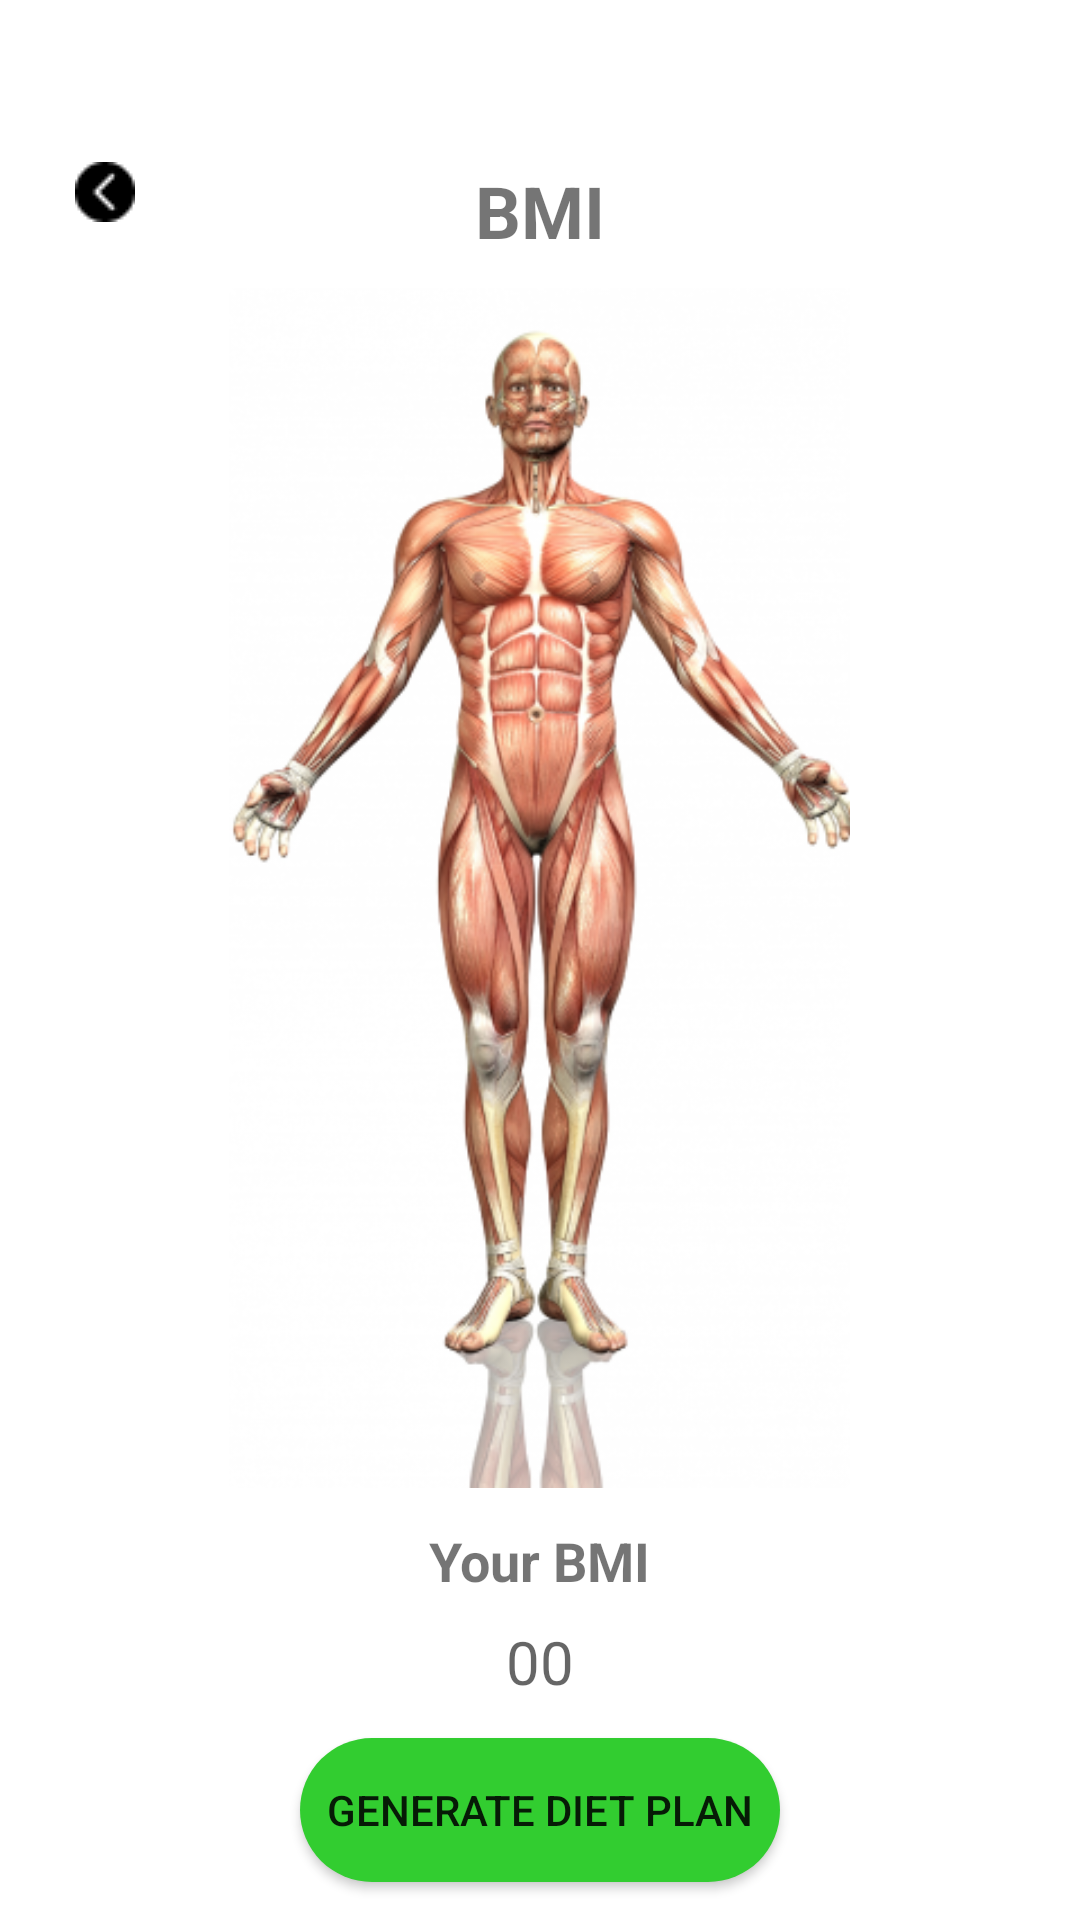

Named icons in this screenshot (1080 × 1920) and their bounding boxes, (x1, y1, x2, y2):
backarrow: (75, 162, 135, 222)
